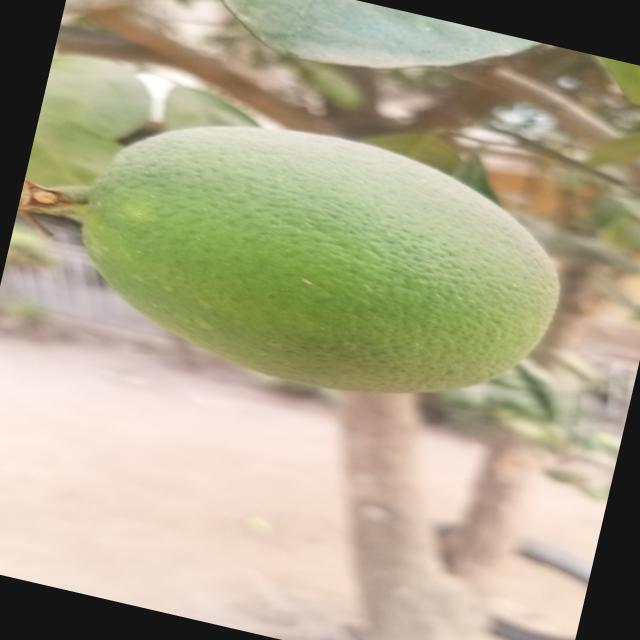Unripe: (52, 84, 574, 430)
